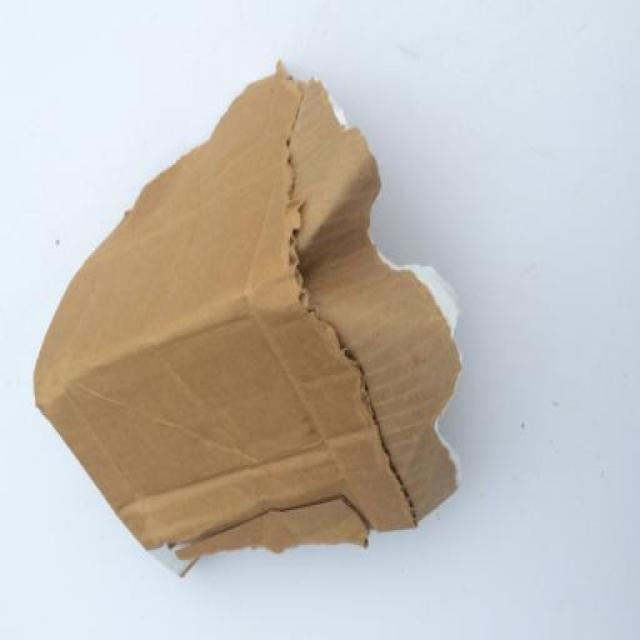cardboard: (36, 70, 464, 570)
